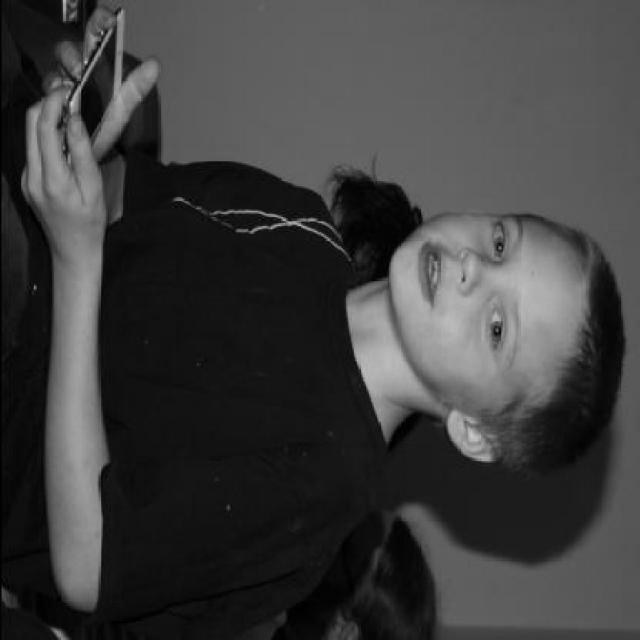fake: (64, 6, 124, 180)
